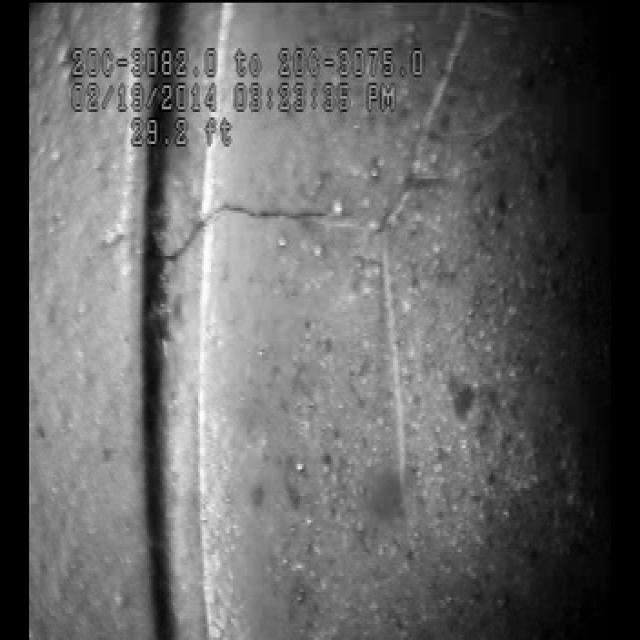Crack: (173, 171, 431, 294)
